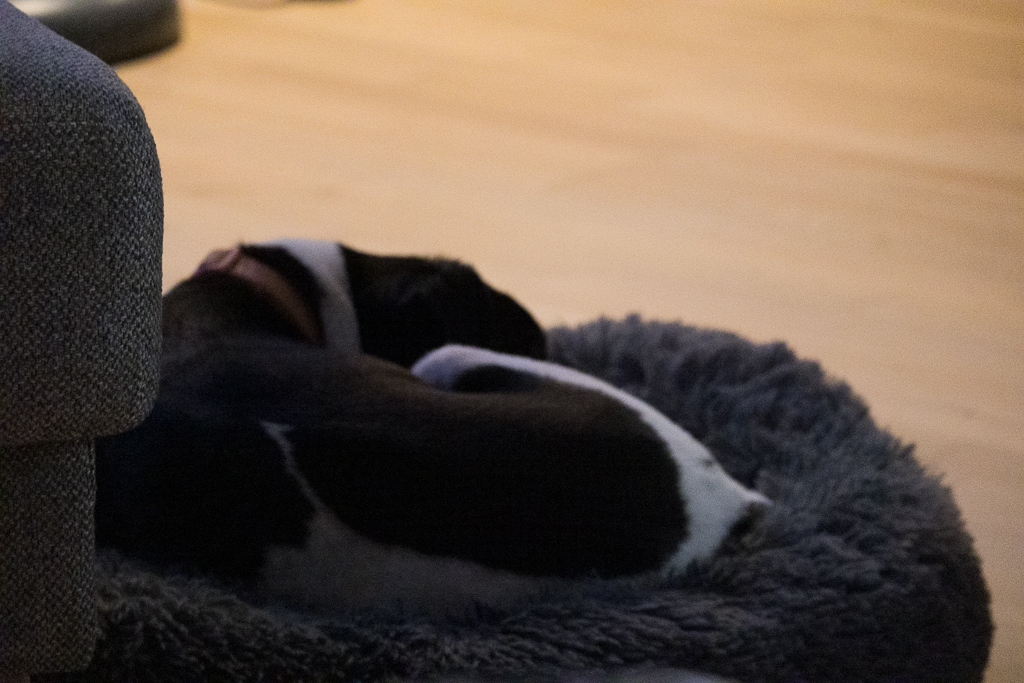Dog: (64, 230, 788, 623)
